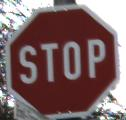Stop sign: (0, 0, 125, 119)
